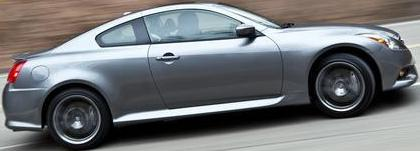headlight: (354, 25, 412, 56)
side_glass: (93, 8, 267, 50)
